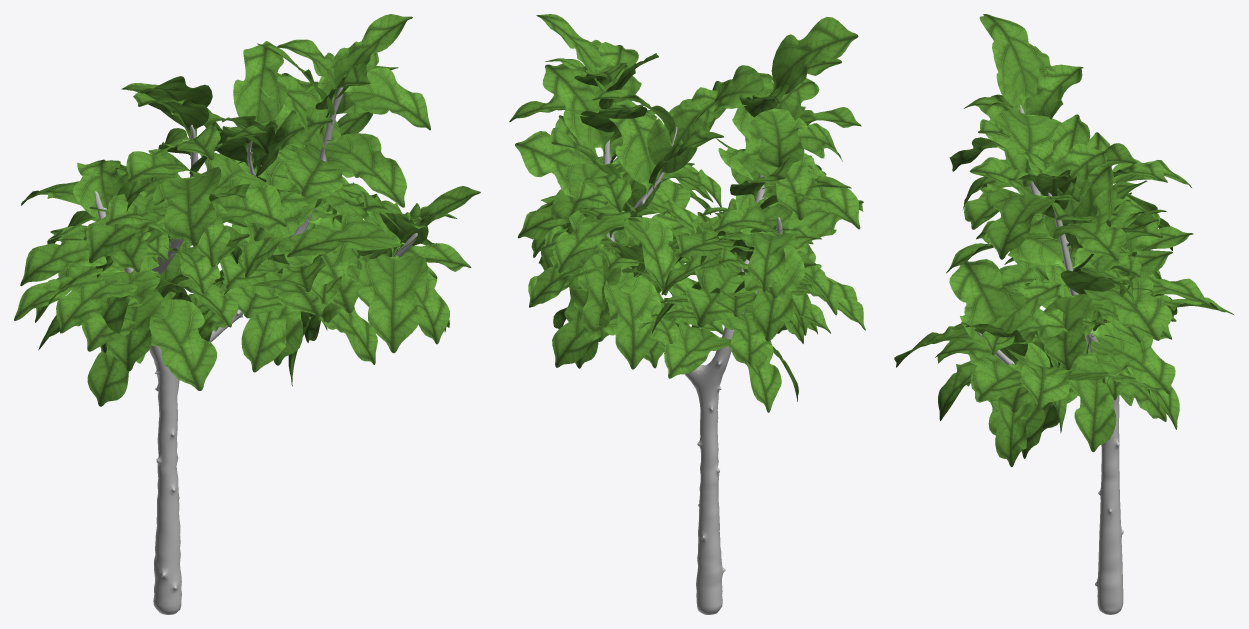
3 views of the same model, side by side, from view 1: azimuth 30°, elevation 25°; view 2: azimuth 150°, elevation 25°; view 3: azimuth 270°, elevation 25° (orthographic). The views are drawn at different scales.
Parts seen in each view (by area): view 1: Leaves, TrunkandBranches; view 2: Leaves, TrunkandBranches; view 3: Leaves, TrunkandBranches.
Boxes of the visible parts, left/top/right/bottom form: Leaves: left=14, top=14, right=480, bottom=406; TrunkandBranches: left=94, top=87, right=417, bottom=614; Leaves: left=509, top=14, right=865, bottom=412; TrunkandBranches: left=603, top=127, right=782, bottom=614; Leaves: left=894, top=14, right=1233, bottom=466; TrunkandBranches: left=977, top=105, right=1123, bottom=614.
Size of the model in its own units: 50.03 by 72.47 by 39.47.
